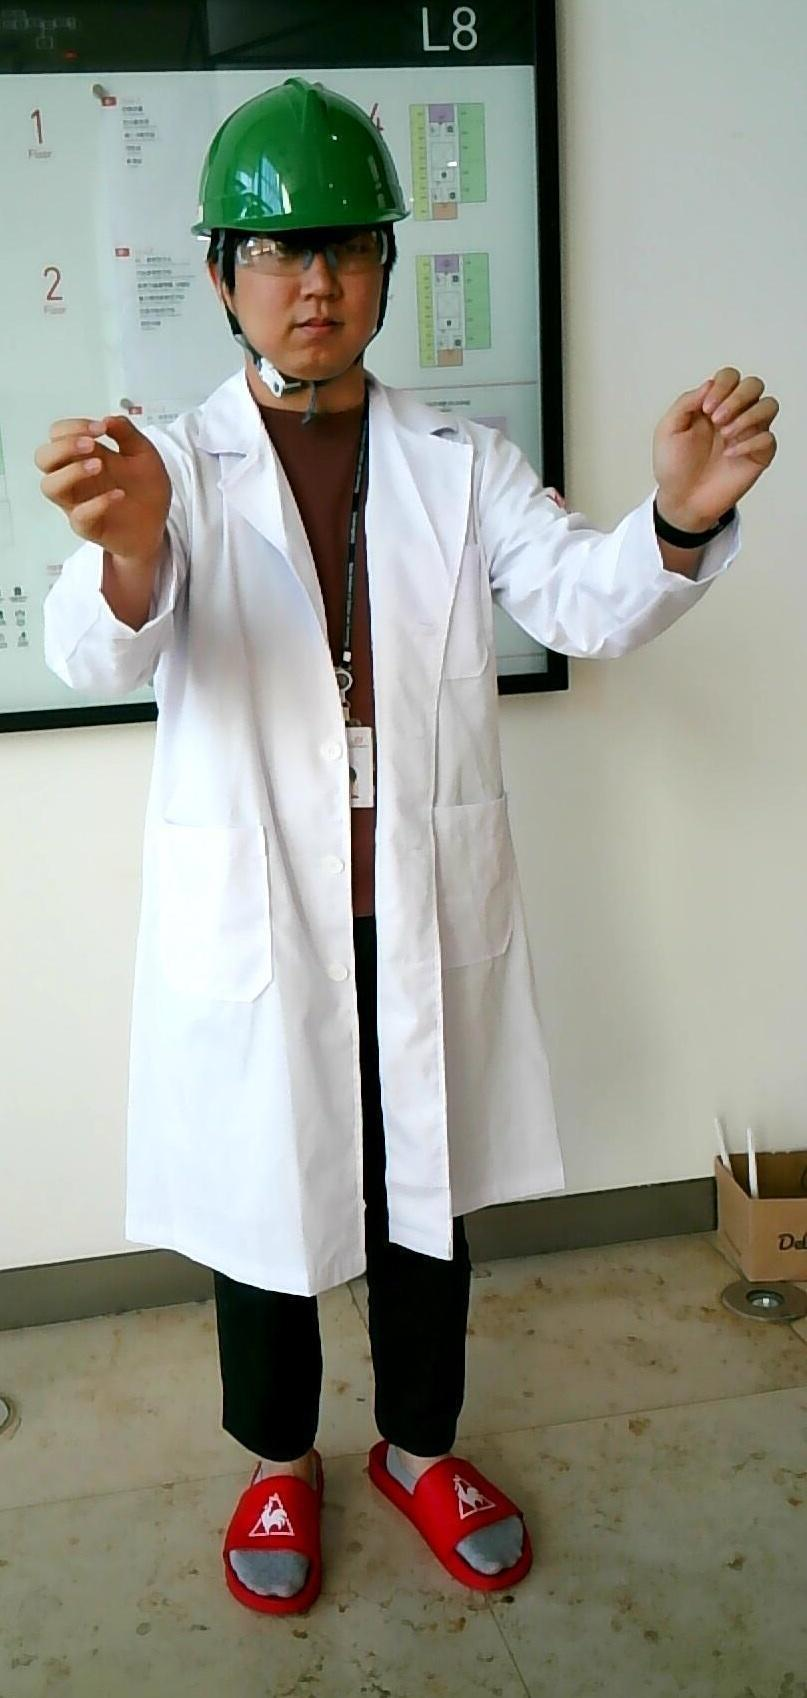lab_coat: (159, 444, 515, 1245)
